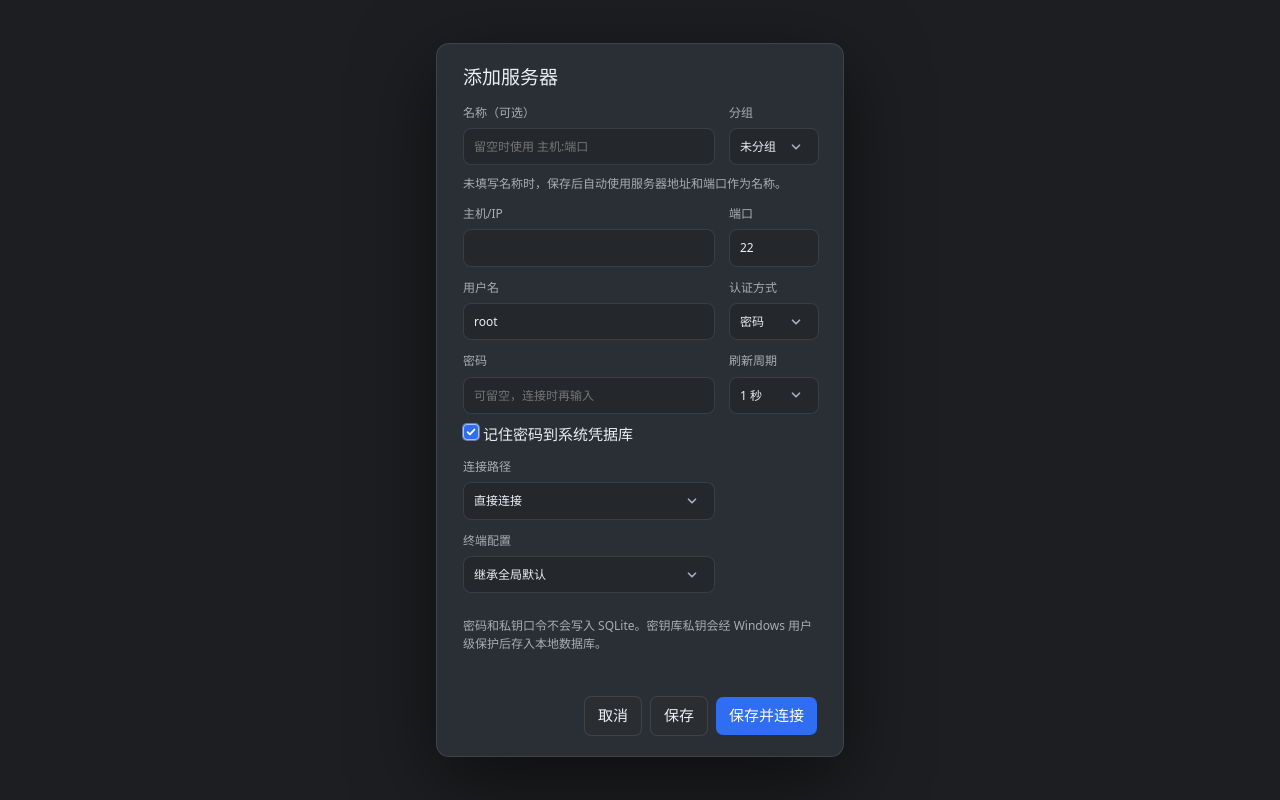
Test: ConnectionDialog › defaults remember password on and switches password/private-key fields
Check: the checkbox with test id "remember-secret" is checked, box top-left (463, 424), bottom-right (479, 440)
Check: the password field with test id "password" is shown, box top-left (463, 377), bottom-right (715, 414)
Select "SSH 私钥" in the dropdown with test id "auth-type" at (774,322), box top-left (729, 303), bottom-right (819, 340)
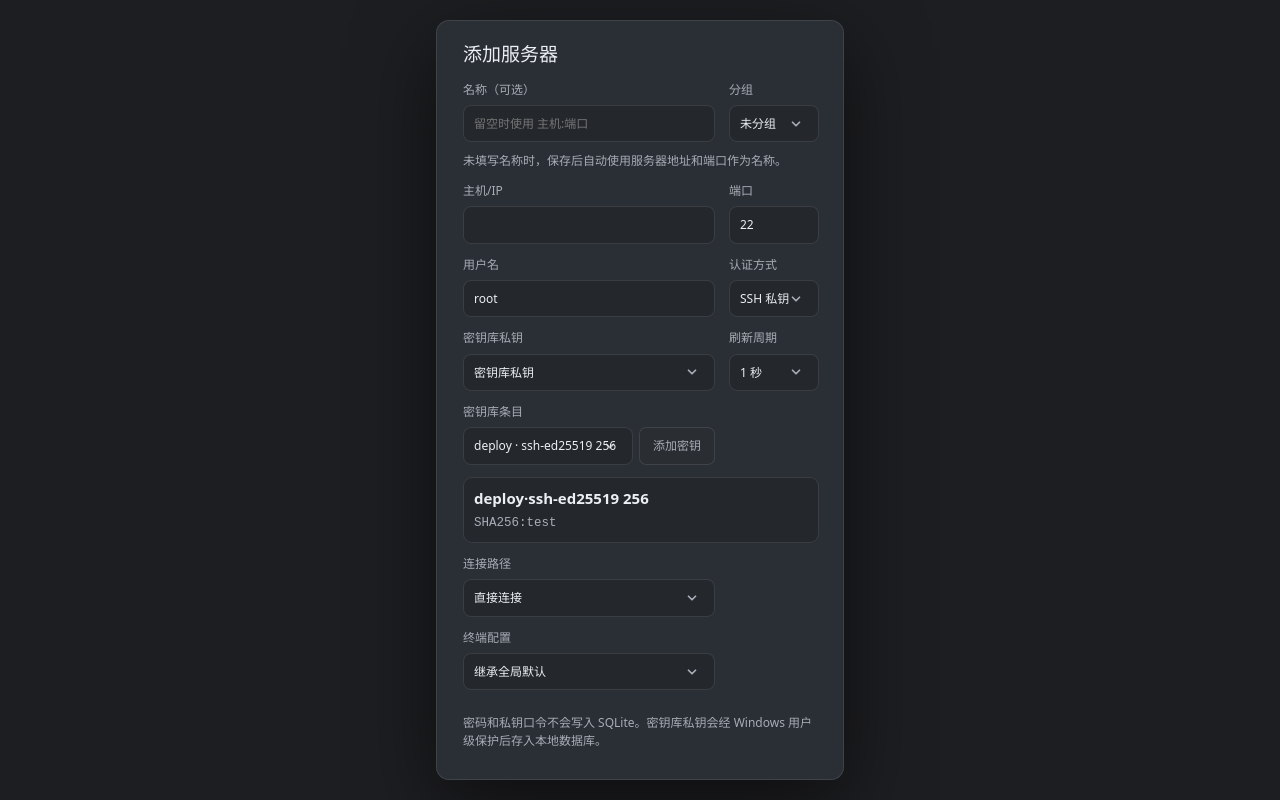
Check: the dropdown with test id "key-vault-select" is shown, box top-left (463, 428), bottom-right (633, 465)
